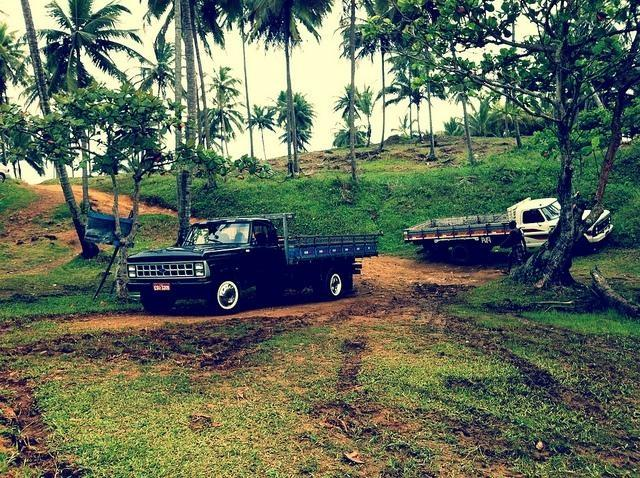truck: (126, 212, 384, 316), (402, 196, 560, 266)
